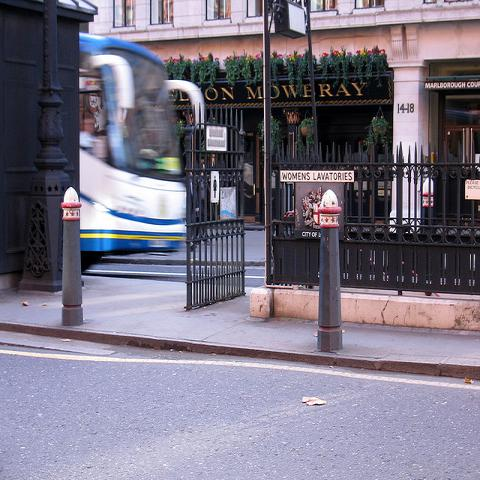bus: (80, 29, 189, 252)
